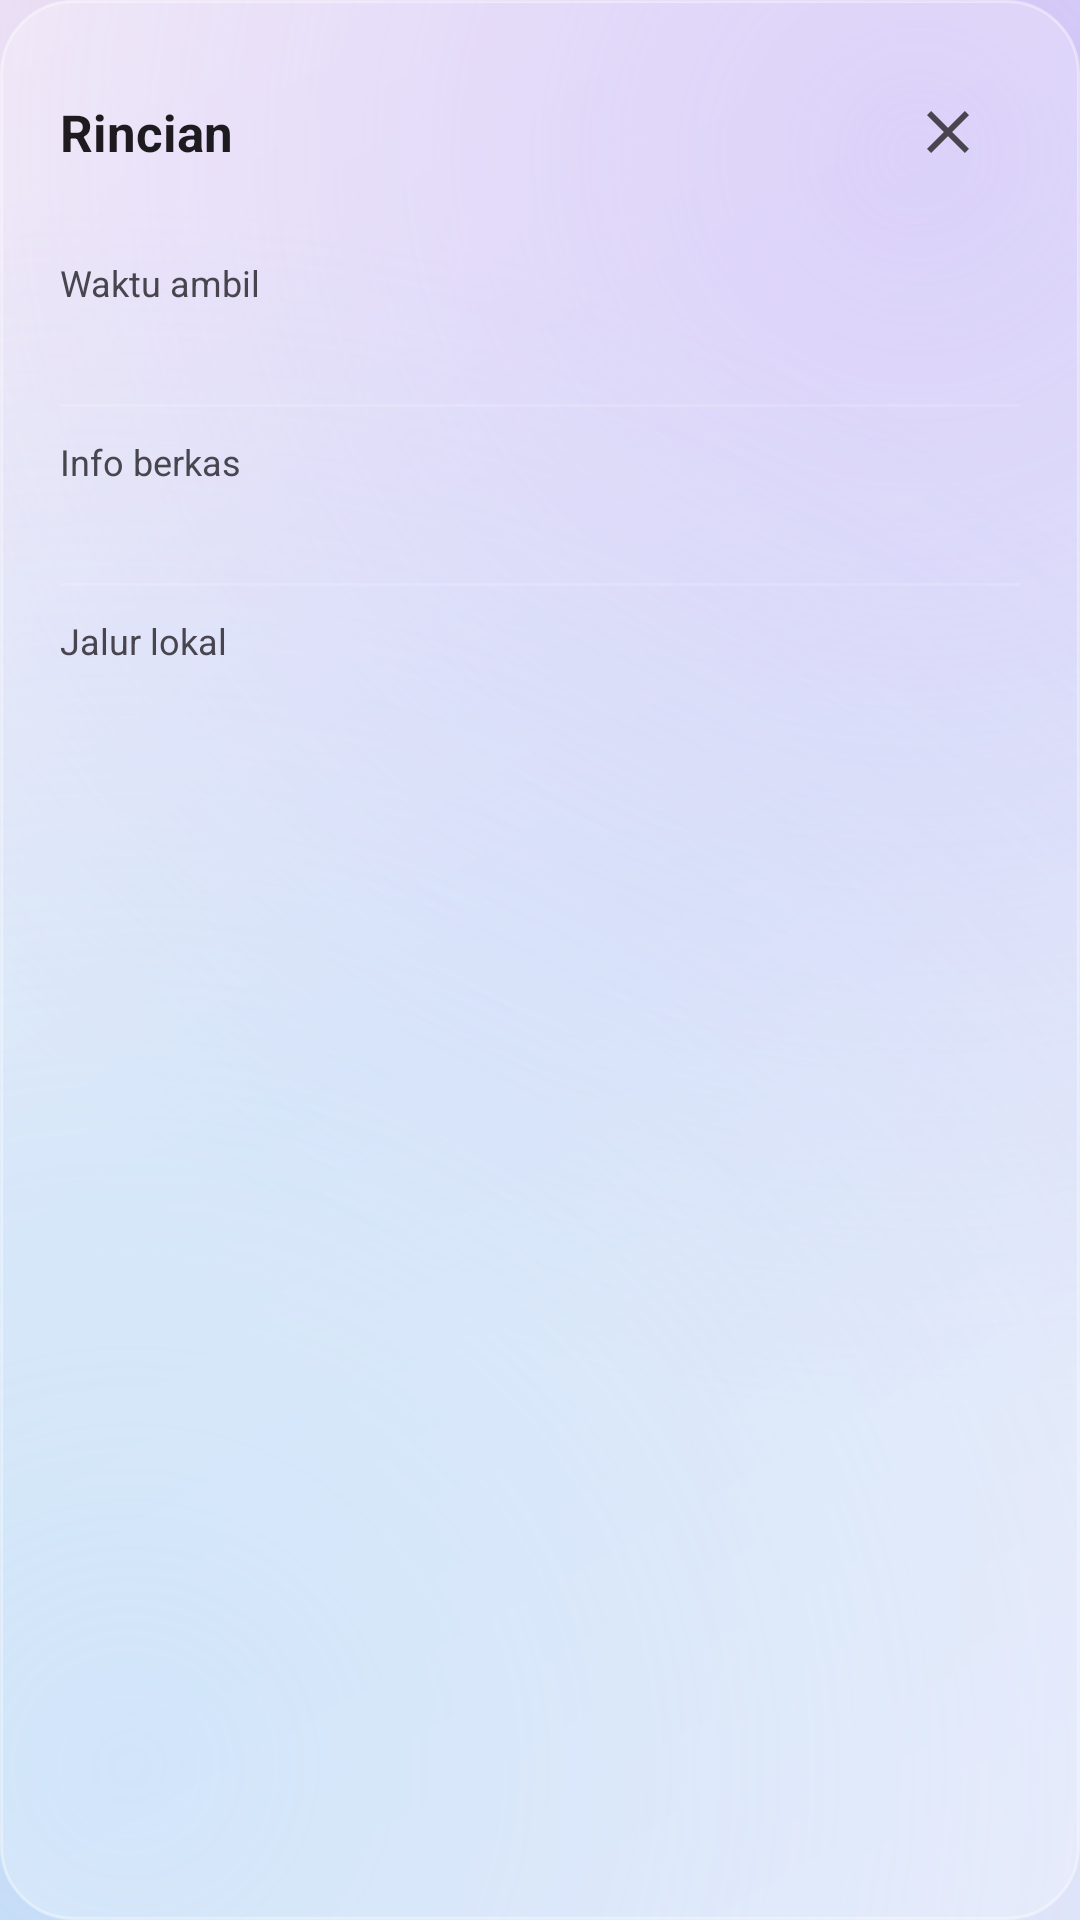

Icons on this 1080 × 1920 Android screen, each with the point to tap as point (x, y):
Tutup: point (948, 132)
